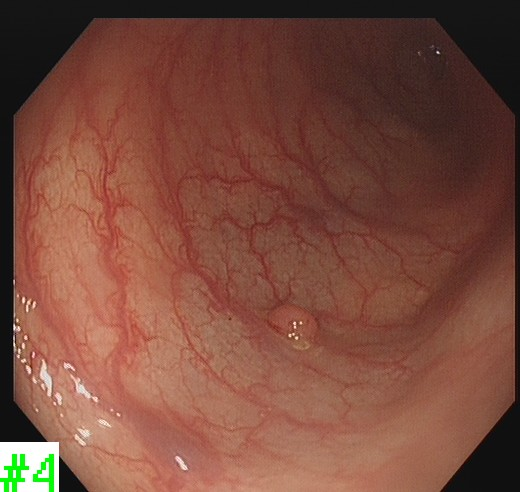adenoma: (264, 300, 321, 344)
